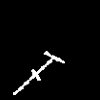double_crochet: (13, 51, 64, 94)
